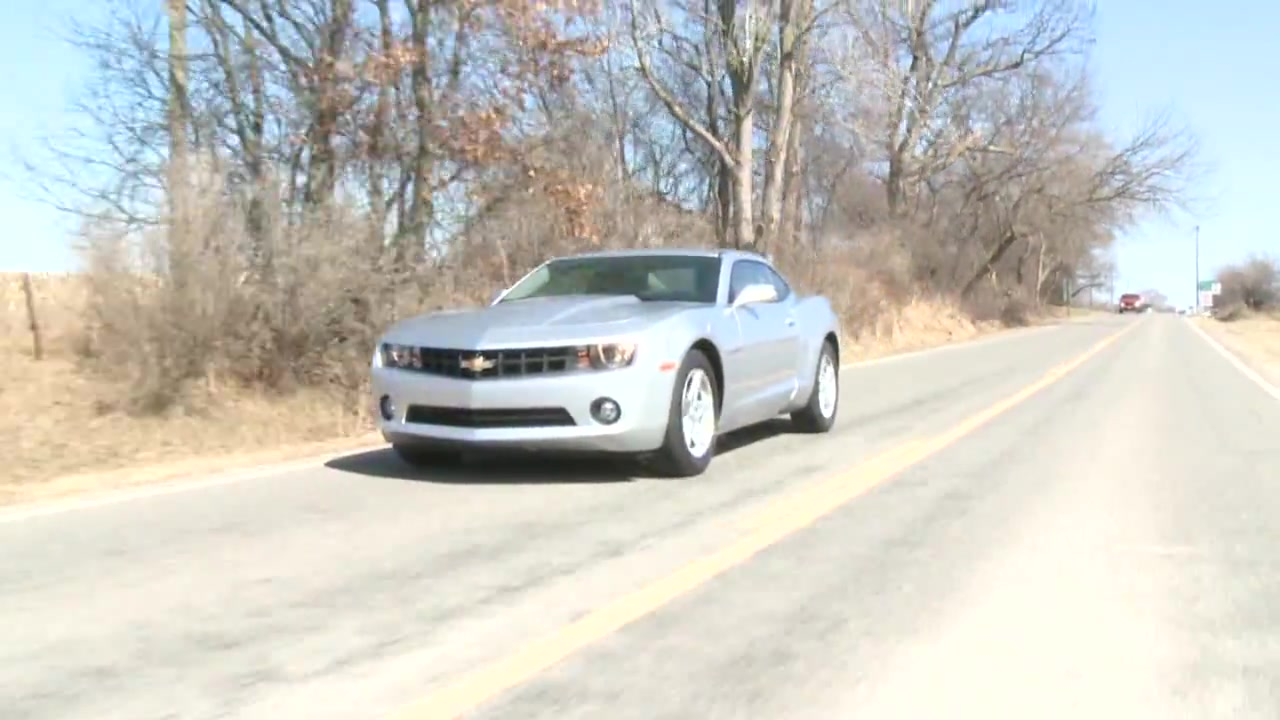car: (373, 246, 845, 478)
